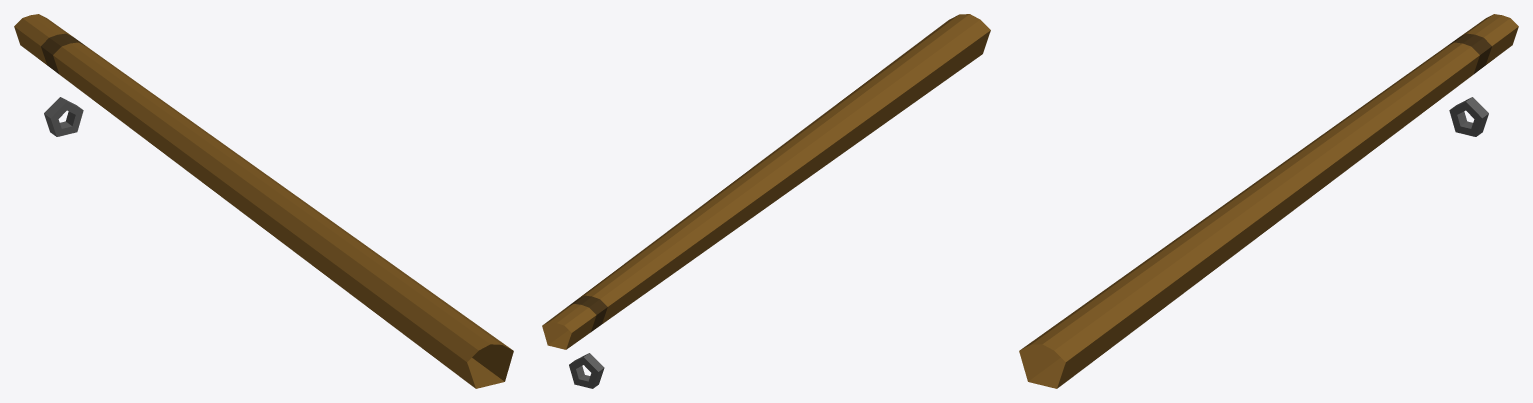
The model's file is Rodpart_07.fbx.
The picture shows the model from 3 angles, left to right: view 1: azimuth 30°, elevation 25°; view 2: azimuth 150°, elevation 25°; view 3: azimuth 330°, elevation 25°; orthographic projection. The views are drawn at different scales.
Visible parts, largest first — view 1: Rodpart_07; view 2: Rodpart_07; view 3: Rodpart_07.
Part boxes in pixels (x1,y1,x2,y2): Rodpart_07: [14, 14, 513, 388]; Rodpart_07: [542, 14, 990, 388]; Rodpart_07: [1019, 14, 1518, 388].
Size of the model in its own units: 0.9459 by 1.93 by 16.09.
